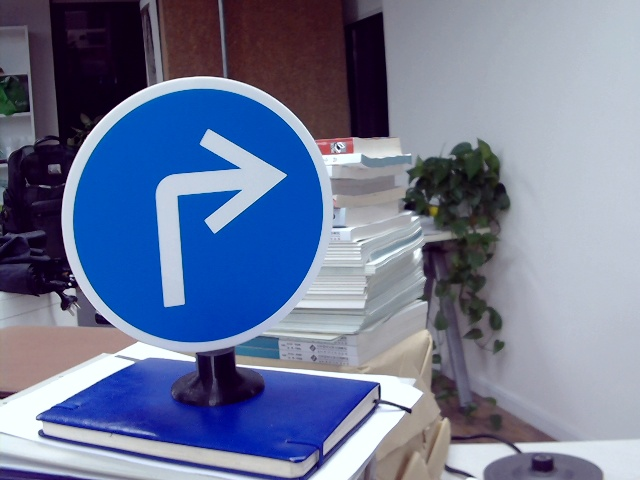turn_right: (137, 123, 291, 307)
